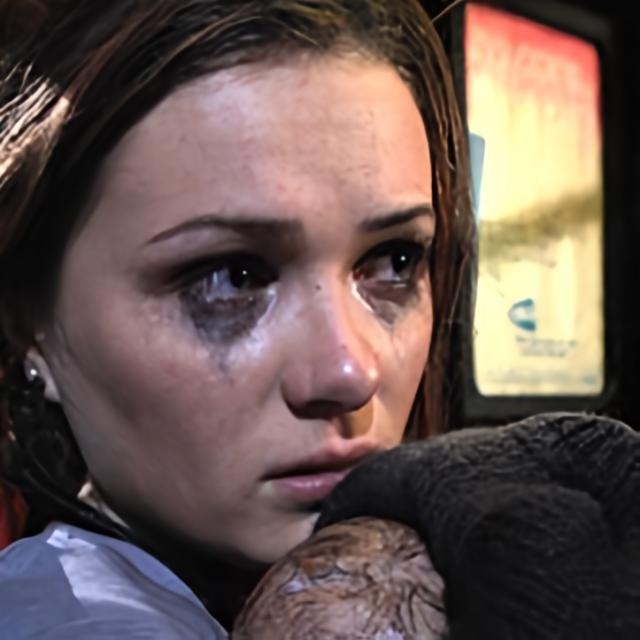sad: (60, 62, 439, 569)
